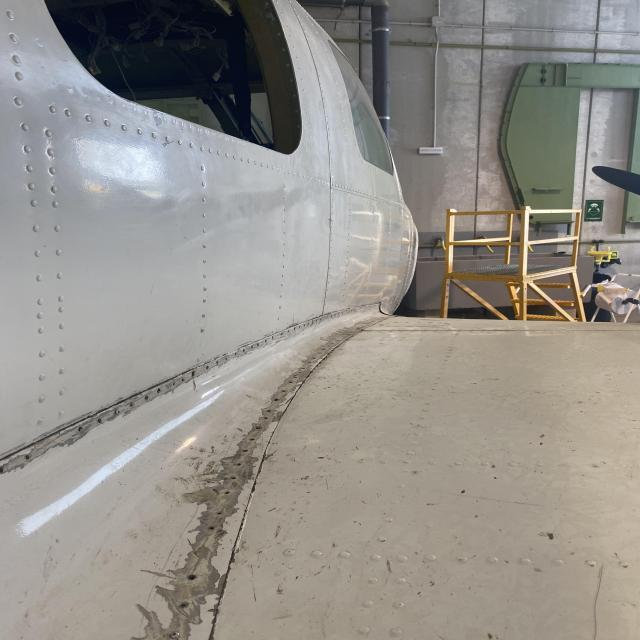Missing_Fastener: (170, 632, 181, 638), (187, 574, 197, 580), (179, 602, 187, 608), (78, 426, 84, 434), (95, 418, 102, 423), (248, 438, 256, 442), (128, 402, 134, 407), (209, 526, 216, 530), (217, 511, 222, 516), (205, 365, 210, 370), (242, 448, 248, 452), (214, 360, 220, 364), (226, 490, 230, 495), (181, 377, 185, 382), (236, 463, 242, 466), (262, 416, 268, 419), (232, 476, 236, 480), (274, 398, 278, 402), (288, 380, 292, 384), (224, 357, 228, 361), (234, 352, 238, 356), (242, 348, 246, 352), (250, 346, 254, 350), (264, 339, 268, 343), (144, 396, 149, 399), (256, 426, 260, 429), (256, 343, 260, 346), (268, 410, 272, 412), (282, 390, 286, 392), (272, 336, 274, 340)
